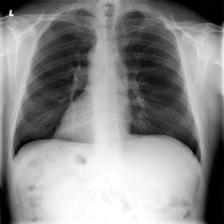normal: (7, 4, 206, 166)
